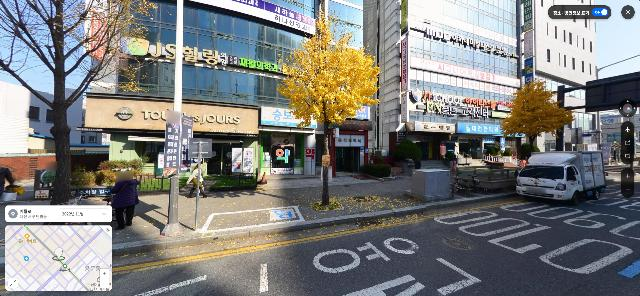ginkgo: (1, 0, 151, 205), (278, 10, 380, 207), (501, 79, 575, 152)
